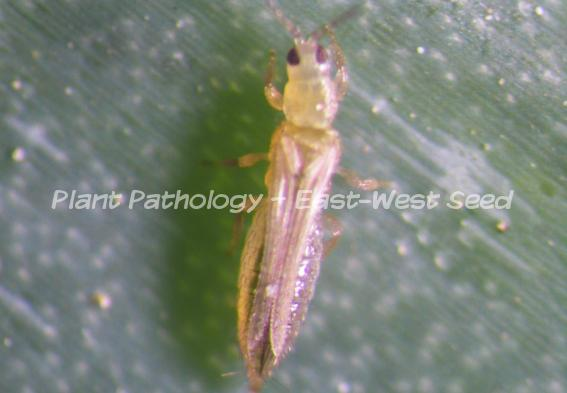Thrips: (258, 17, 346, 384)
